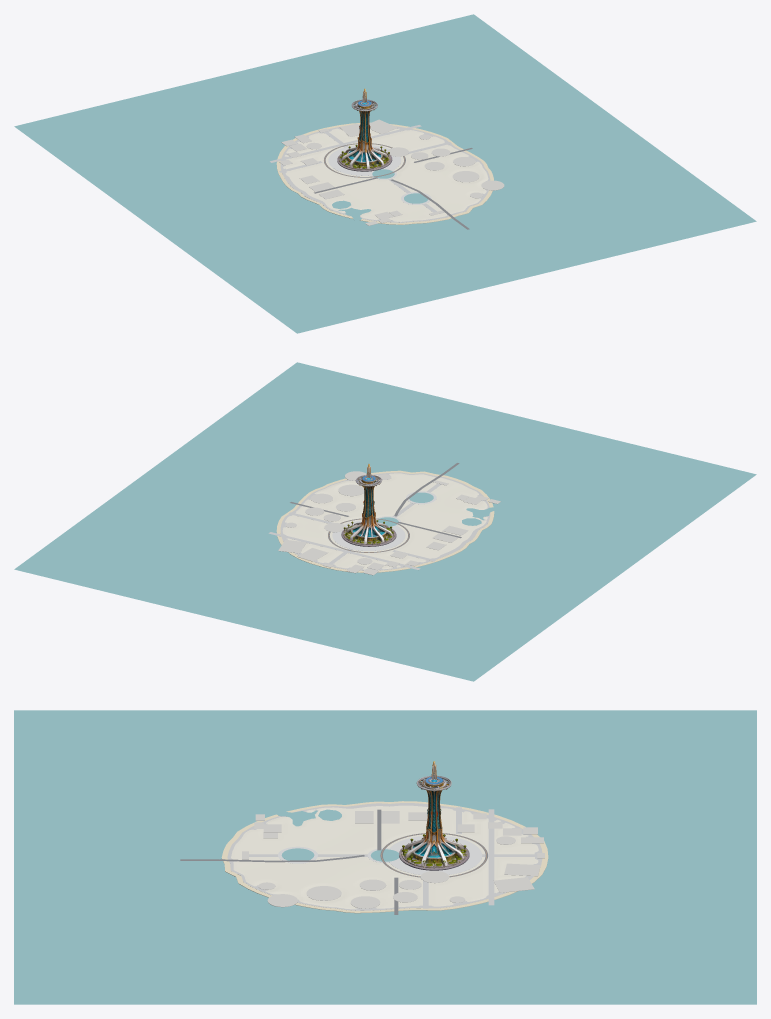
Rendered from world-city2.glb.
The picture shows the model from 3 angles, top to bottom: view 1: azimuth 30°, elevation 25°; view 2: azimuth 150°, elevation 25°; view 3: azimuth 270°, elevation 25°; orthographic projection. The views are drawn at different scales.
Parts seen in each view (by area): view 1: Water, LandTop, node_0, IslandSlab, PerimeterRoad, PlazaDisc; view 2: Water, LandTop, node_0, IslandSlab, PerimeterRoad, PlazaDisc; view 3: Water, LandTop, node_0, IslandSlab, PerimeterRoad, PlazaDisc, Street_north-ew.
Part boxes in pixels (x1=…): Water: x1=14, y1=14, x2=756, y2=333; LandTop: x1=283, y1=128, x2=488, y2=221; node_0: x1=337, y1=88, x2=392, y2=171; IslandSlab: x1=276, y1=122, x2=493, y2=224; PerimeterRoad: x1=280, y1=124, x2=490, y2=222; PlazaDisc: x1=328, y1=145, x2=401, y2=175; Water: x1=14, y1=362, x2=756, y2=681; LandTop: x1=282, y1=473, x2=487, y2=569; node_0: x1=341, y1=464, x2=396, y2=546; IslandSlab: x1=276, y1=470, x2=494, y2=572; PerimeterRoad: x1=280, y1=472, x2=490, y2=570; PlazaDisc: x1=332, y1=520, x2=405, y2=550; Water: x1=14, y1=710, x2=756, y2=1004; LandTop: x1=231, y1=805, x2=538, y2=909; node_0: x1=399, y1=761, x2=469, y2=870; IslandSlab: x1=221, y1=801, x2=548, y2=913; PerimeterRoad: x1=227, y1=803, x2=542, y2=910; PlazaDisc: x1=388, y1=836, x2=482, y2=874; Street_north-ew: x1=488, y1=809, x2=494, y2=905.
Bounding box in the file's own units: 900 × 135 × 960.
9 materials, 1 textured.
